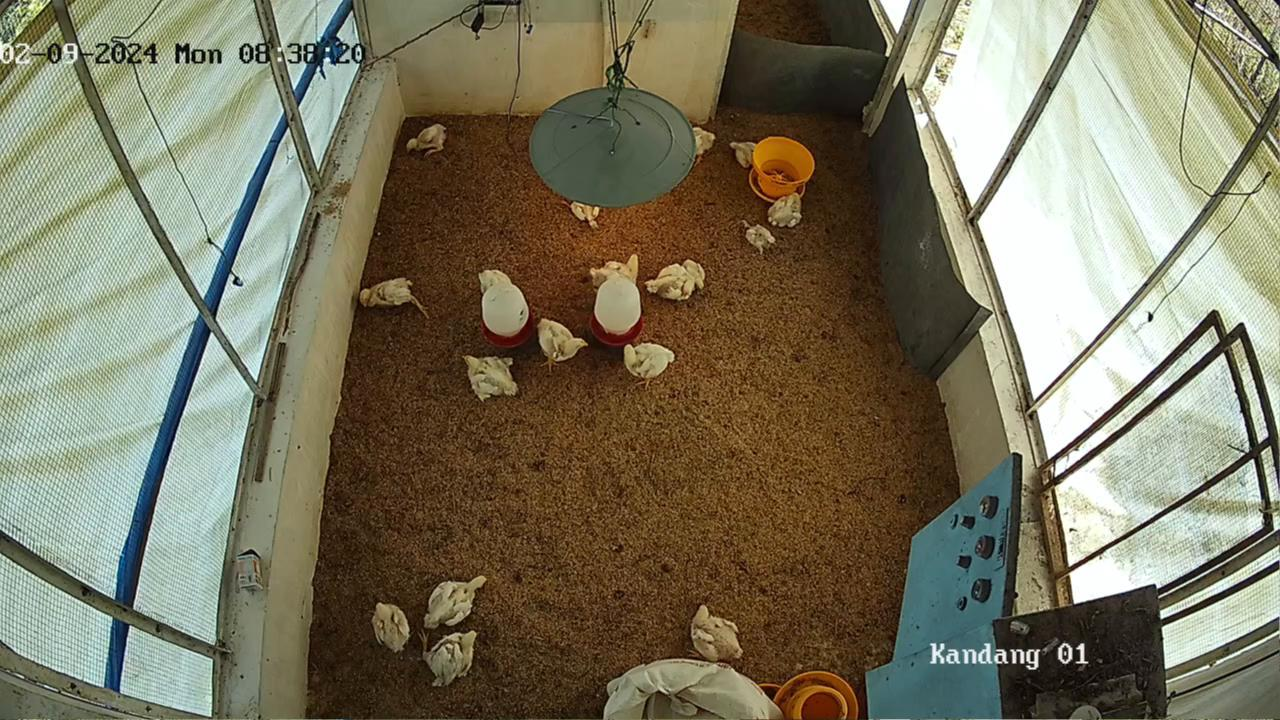chicken: (422, 574, 488, 631), (687, 600, 745, 664), (424, 628, 479, 692), (459, 354, 520, 403), (621, 337, 678, 382), (535, 316, 589, 363), (371, 599, 412, 656), (588, 251, 641, 295), (358, 274, 415, 314), (643, 262, 695, 303), (404, 123, 449, 157), (766, 190, 804, 229), (472, 268, 511, 298), (727, 137, 763, 169), (744, 222, 778, 255), (570, 198, 602, 230), (688, 124, 718, 156), (682, 258, 706, 291)
